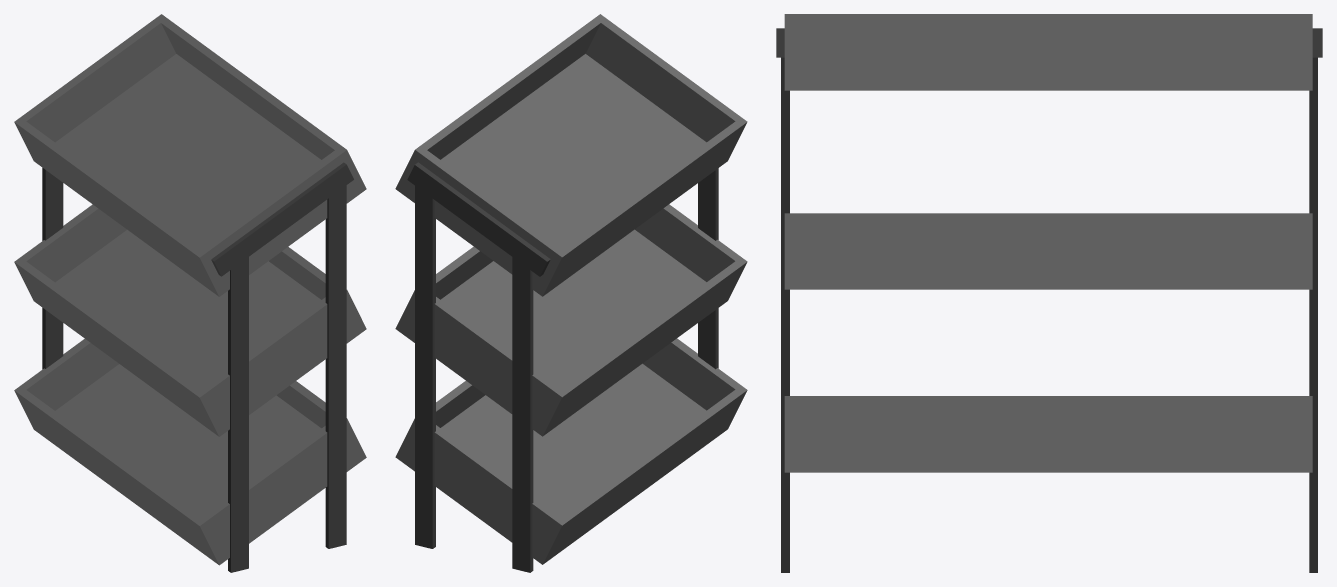
Rendered from shelf_G.FBX.
3 views of the same model, side by side, from view 1: azimuth 30°, elevation 25°; view 2: azimuth 150°, elevation 25°; view 3: azimuth 270°, elevation 25° (orthographic). The views are drawn at different scales.
Visible parts, largest first — view 1: shelf_G; view 2: shelf_G; view 3: shelf_G.
Boxes of the visible parts, bbox=[...] form: shelf_G: bbox=[14, 14, 366, 572]; shelf_G: bbox=[395, 14, 747, 572]; shelf_G: bbox=[776, 14, 1322, 572].
Bounding box in the file's own units: 40.85 × 91.96 × 81.29.
